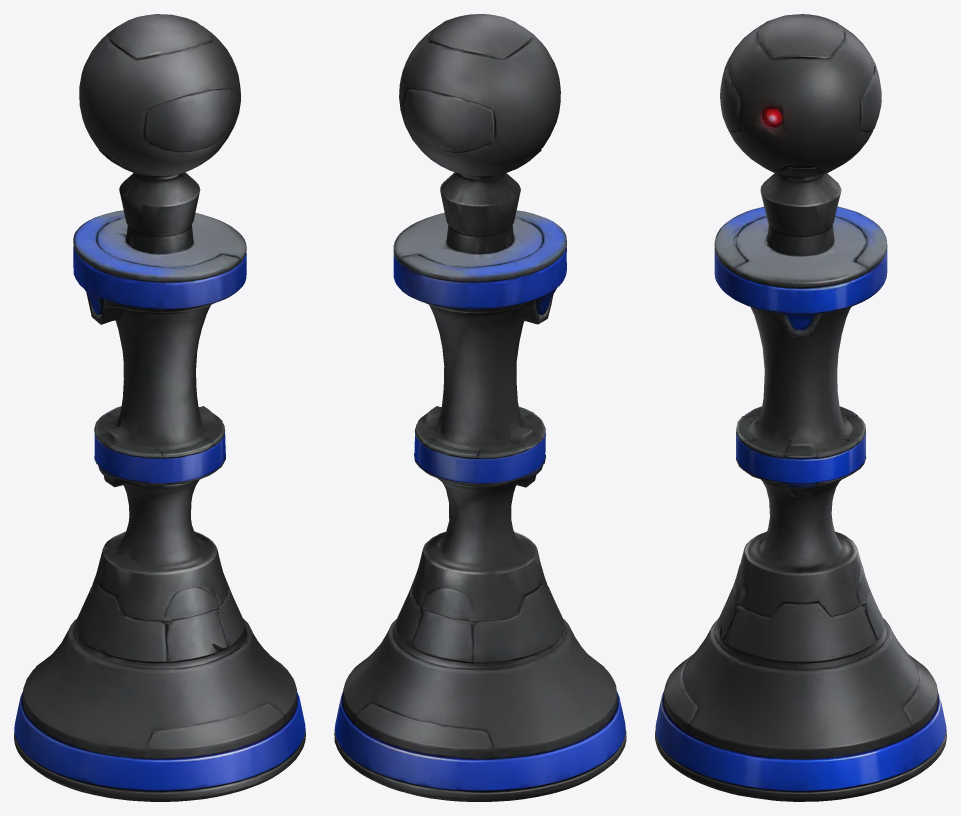
Rendered from pawn_chess.glb.
3 renders of one model, left to right at view 1: azimuth 30°, elevation 25°; view 2: azimuth 150°, elevation 25°; view 3: azimuth 270°, elevation 25°, orthographic.
Visible parts, largest first — view 1: tripo_node_2ea7c3d3-db21-42a6-8f6f-a0b6e39acdb4; view 2: tripo_node_2ea7c3d3-db21-42a6-8f6f-a0b6e39acdb4; view 3: tripo_node_2ea7c3d3-db21-42a6-8f6f-a0b6e39acdb4.
Boxes of the visible parts, x1,y1,x2,y2 form: tripo_node_2ea7c3d3-db21-42a6-8f6f-a0b6e39acdb4: [14, 14, 305, 801]; tripo_node_2ea7c3d3-db21-42a6-8f6f-a0b6e39acdb4: [334, 14, 626, 801]; tripo_node_2ea7c3d3-db21-42a6-8f6f-a0b6e39acdb4: [655, 14, 946, 801].
Size of the model in its own units: 0.3665 by 1 by 0.3656.
1 material, 1 textured.
